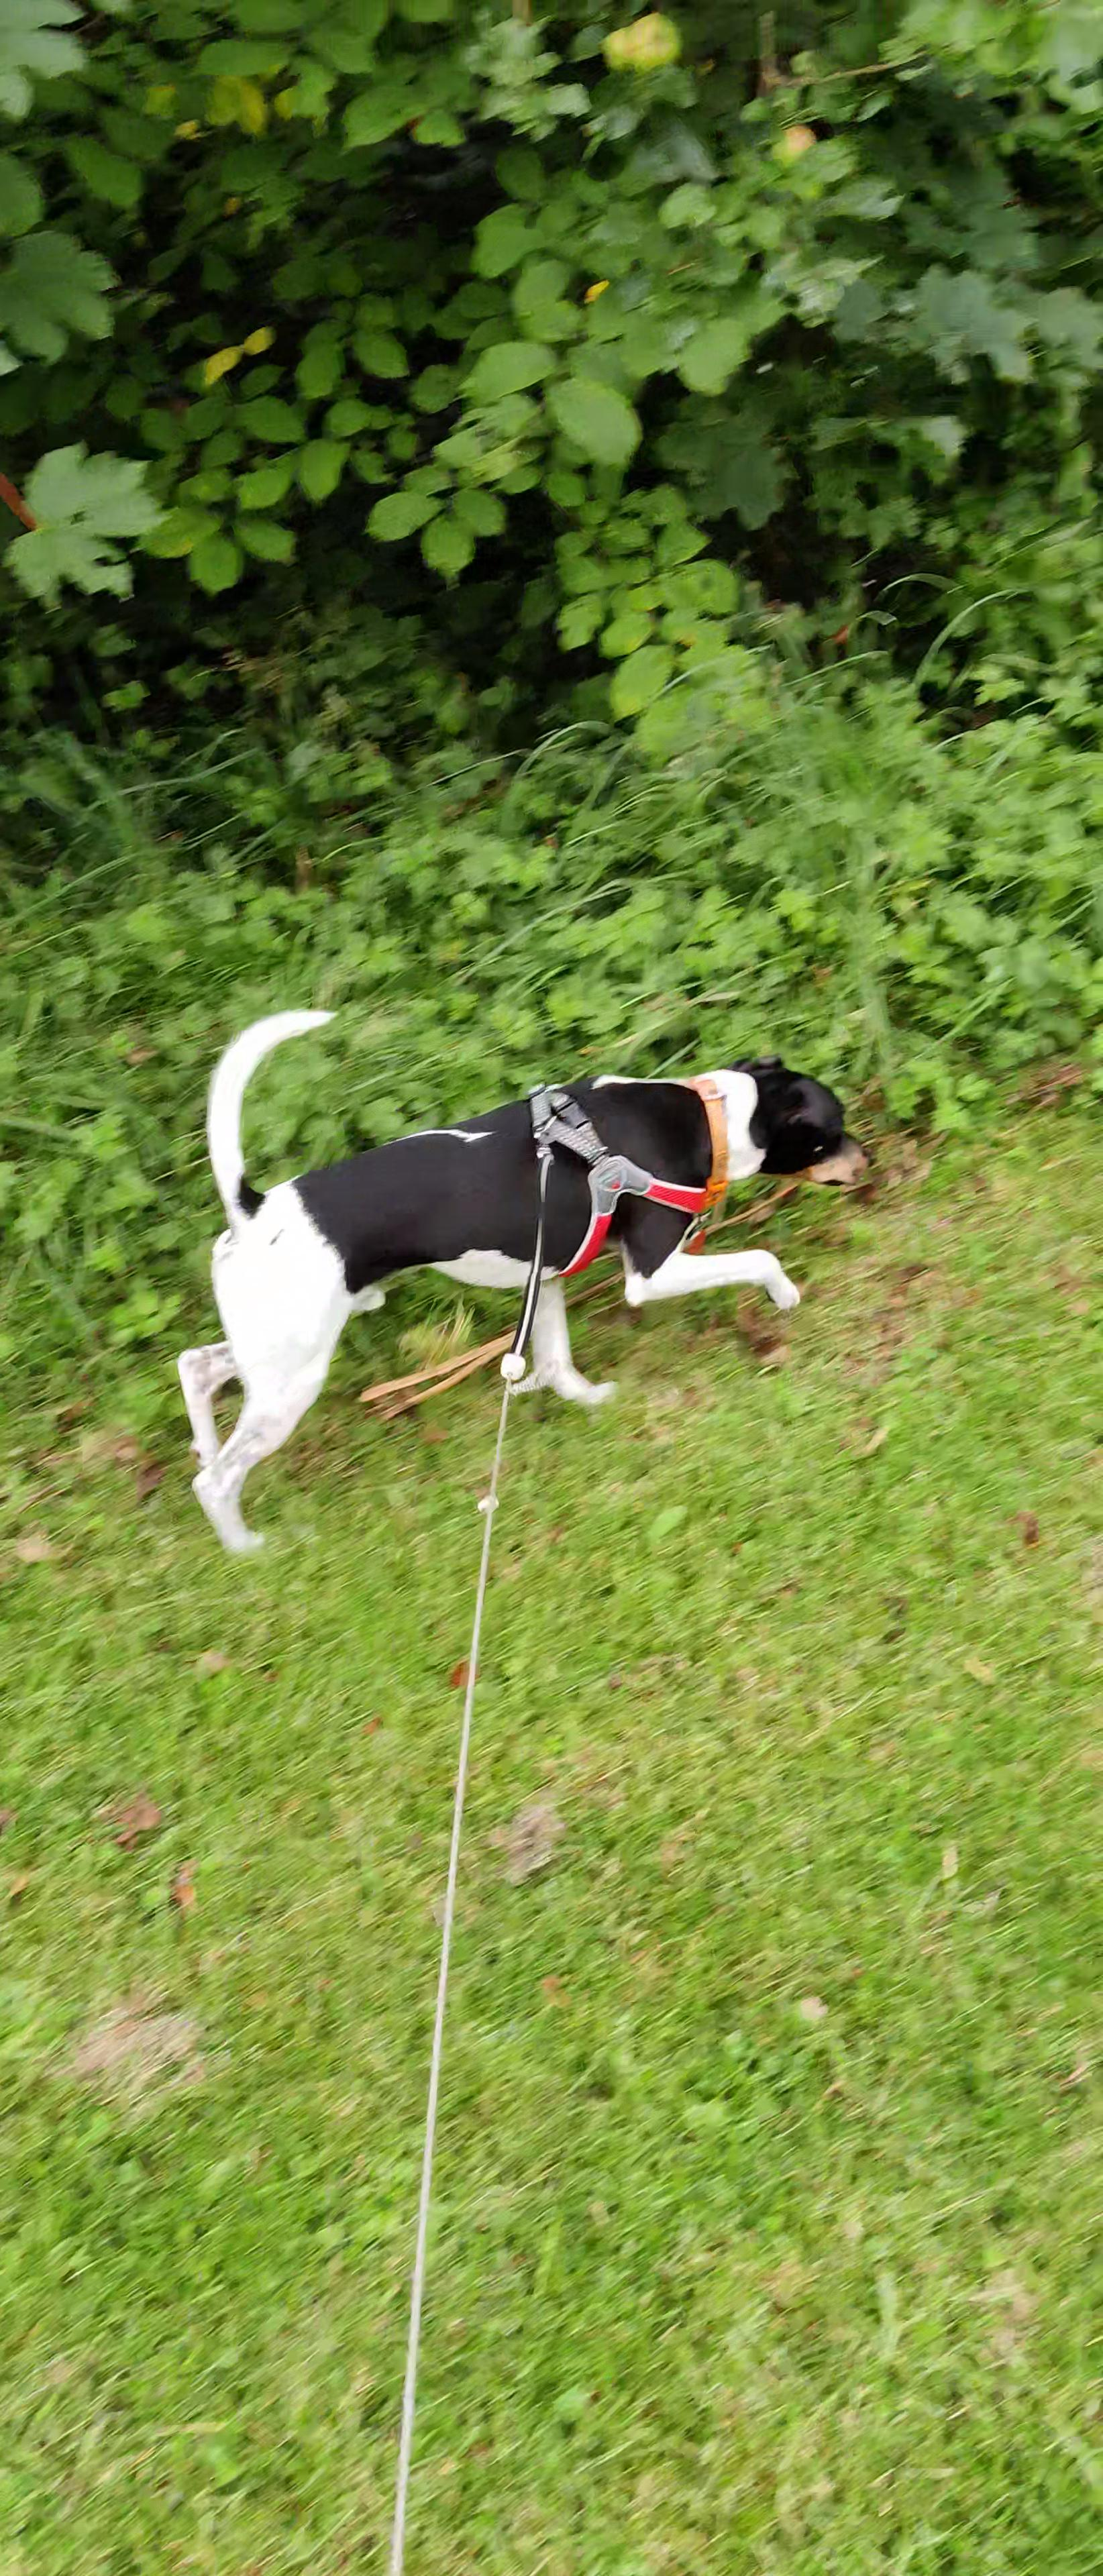Dog: (150, 989, 884, 1579)
